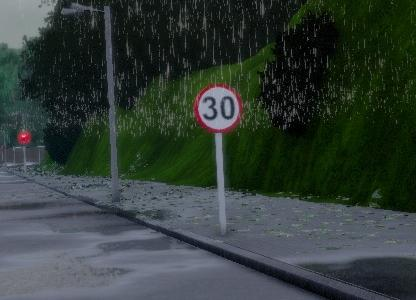Speed_30: (192, 82, 245, 132)
